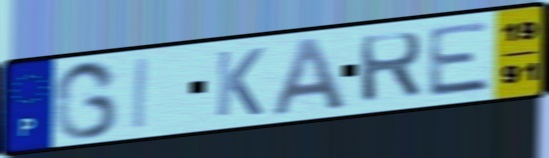A: (267, 34, 351, 120)
E: (425, 18, 494, 100)
G: (51, 57, 121, 142)
I: (130, 54, 153, 133)
K: (213, 45, 267, 120)
R: (356, 29, 426, 105)
